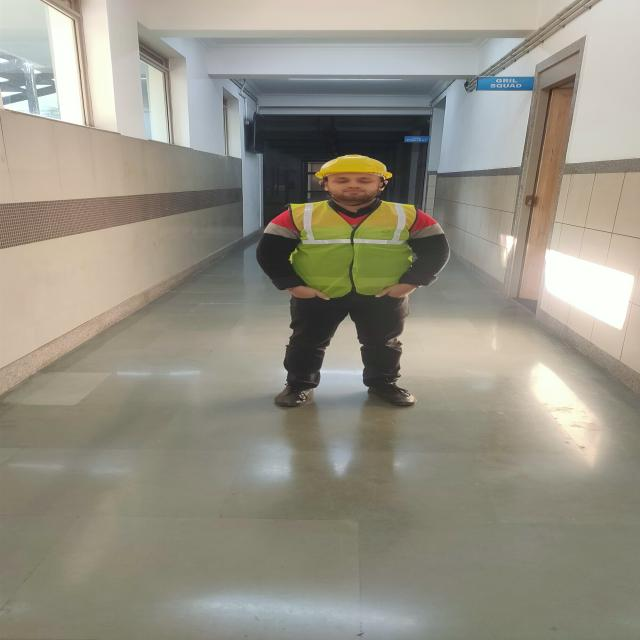safe: (257, 155, 448, 406)
